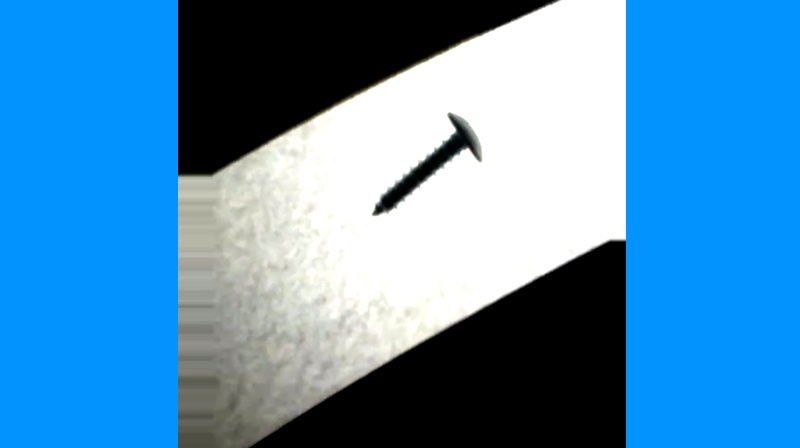S003: (367, 105, 487, 221)
